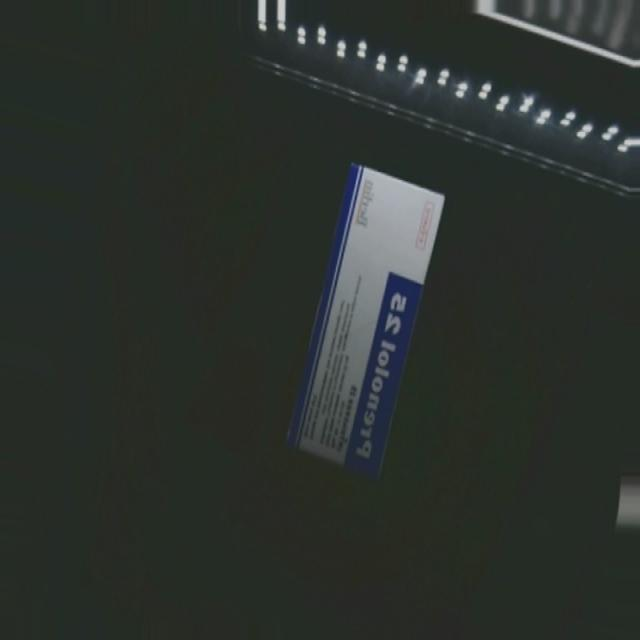prenolol: (282, 162, 441, 478)
